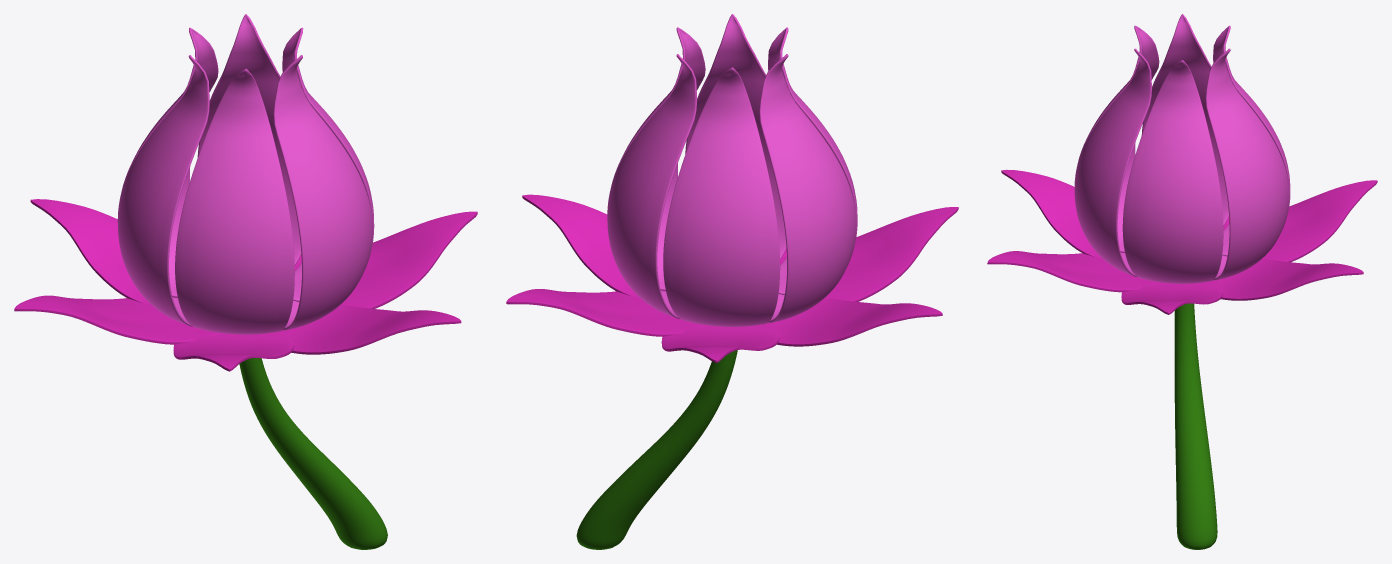
The model's file is flower.fbx.
The picture shows the model from 3 angles, left to right: view 1: azimuth 30°, elevation 25°; view 2: azimuth 150°, elevation 25°; view 3: azimuth 270°, elevation 25°; orthographic projection. The views are drawn at different scales.
Parts seen in each view (by area): view 1: Sphere, Sphere.002, Cylinder.001; view 2: Sphere, Sphere.002, Cylinder.001; view 3: Sphere, Sphere.002, Cylinder.001.
Part boxes in pixels (x1,y1,x2,y2): Sphere: (117,14,374,334); Sphere.002: (14,199,477,371); Cylinder.001: (239,358,387,549); Sphere: (607,14,857,326); Sphere.002: (506,194,958,362); Cylinder.001: (576,350,737,549); Sphere: (1074,14,1290,283); Sphere.002: (987,169,1377,314); Cylinder.001: (1174,303,1217,549).
Size of the model in its own units: 402 by 465 by 360.
